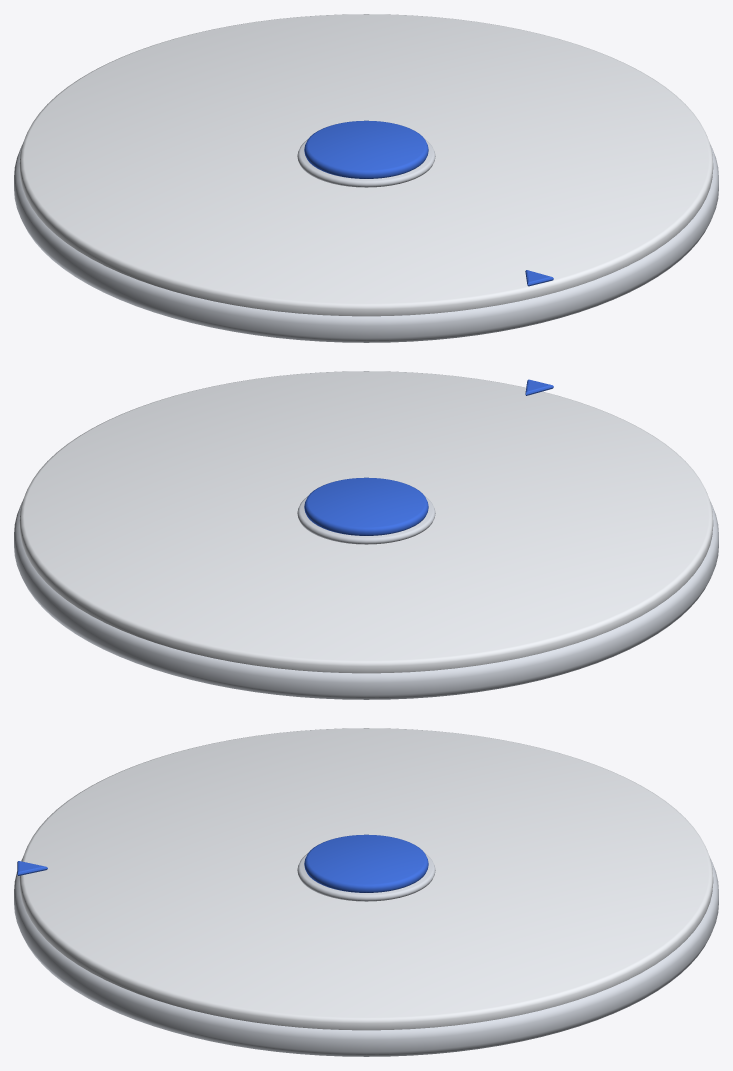
The model's file is decision-stage.glb.
3 views of the same model, one above another, from view 1: azimuth 30°, elevation 25°; view 2: azimuth 150°, elevation 25°; view 3: azimuth 270°, elevation 25° (orthographic).
Visible parts, largest first — view 1: RotatingDeck, BaseBody, ActionCap, ActionBase; view 2: RotatingDeck, BaseBody, ActionCap, ActionBase; view 3: RotatingDeck, BaseBody, ActionCap, ActionBase.
Part boxes in pixels (x1=…): RotatingDeck: x1=19, y1=14, x2=713, y2=316; BaseBody: x1=14, y1=144, x2=718, y2=342; ActionCap: x1=304, y1=120, x2=428, y2=178; ActionBase: x1=297, y1=139, x2=435, y2=187; RotatingDeck: x1=19, y1=371, x2=713, y2=673; BaseBody: x1=14, y1=501, x2=718, y2=699; ActionCap: x1=304, y1=477, x2=428, y2=535; ActionBase: x1=297, y1=496, x2=435, y2=544; RotatingDeck: x1=19, y1=728, x2=713, y2=1030; BaseBody: x1=14, y1=858, x2=718, y2=1056; ActionCap: x1=304, y1=834, x2=428, y2=892; ActionBase: x1=297, y1=853, x2=435, y2=901.
Bounding box in the file's own units: 4.24 × 0.4045 × 4.24.
